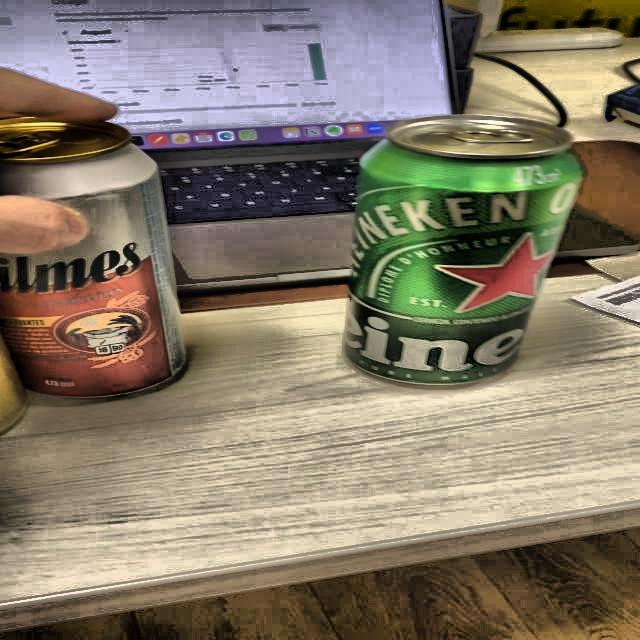can: (339, 105, 589, 392), (0, 99, 200, 398)
